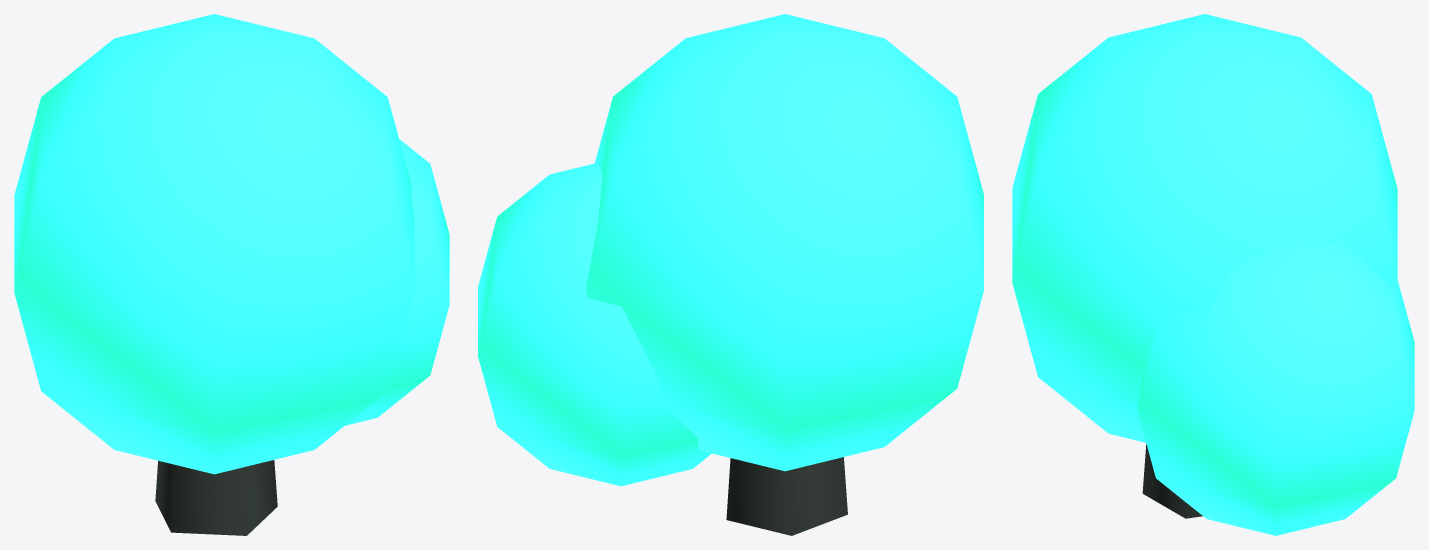
File: mushroom_cluster_b.glb
3 views of the same model, side by side, from view 1: azimuth 30°, elevation 25°; view 2: azimuth 150°, elevation 25°; view 3: azimuth 270°, elevation 25° (orthographic). The views are drawn at different scales.
Size of the model in its own units: 0.59 by 0.57 by 0.4524.
